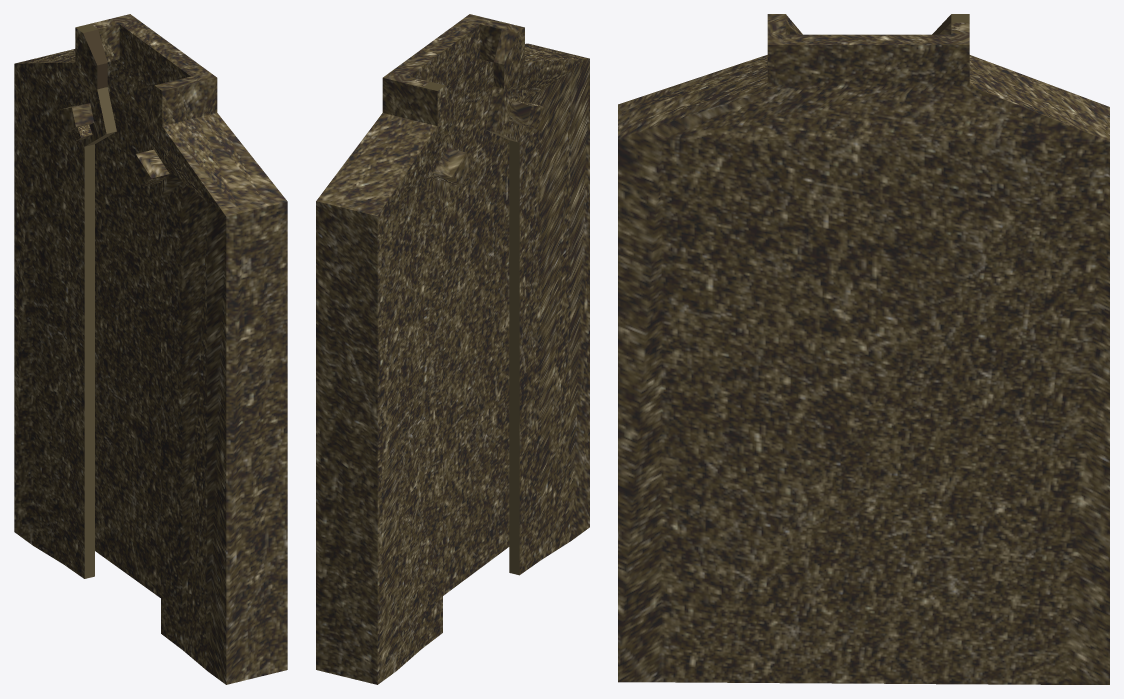
Rendered from Coat.fbx.
The picture shows the model from 3 angles, left to right: view 1: azimuth 30°, elevation 25°; view 2: azimuth 150°, elevation 25°; view 3: azimuth 270°, elevation 25°; orthographic projection. The views are drawn at different scales.
Parts seen in each view (by area): view 1: Coat; view 2: Coat; view 3: Coat.
Part boxes in pixels (x1,y1,x2,y2): Coat: (14, 14, 287, 684); Coat: (316, 14, 589, 684); Coat: (618, 14, 1109, 684).
Bounding box in the file's own units: 1.47 × 9.96 × 6.98.
